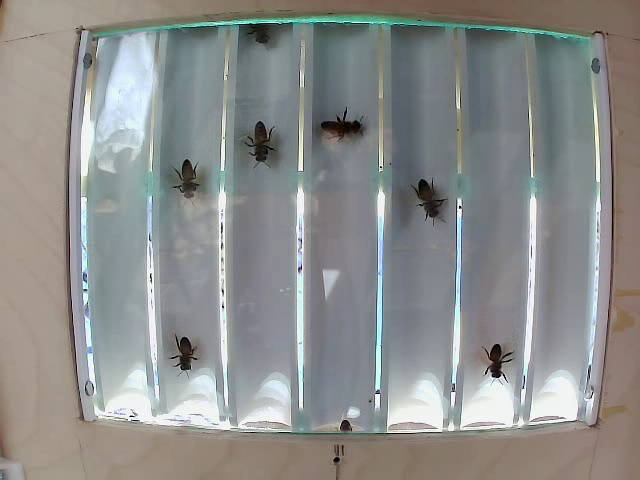bee: (170, 154, 220, 210), (314, 98, 362, 150), (236, 118, 279, 174), (407, 163, 444, 222), (479, 341, 514, 385), (161, 337, 200, 371)
